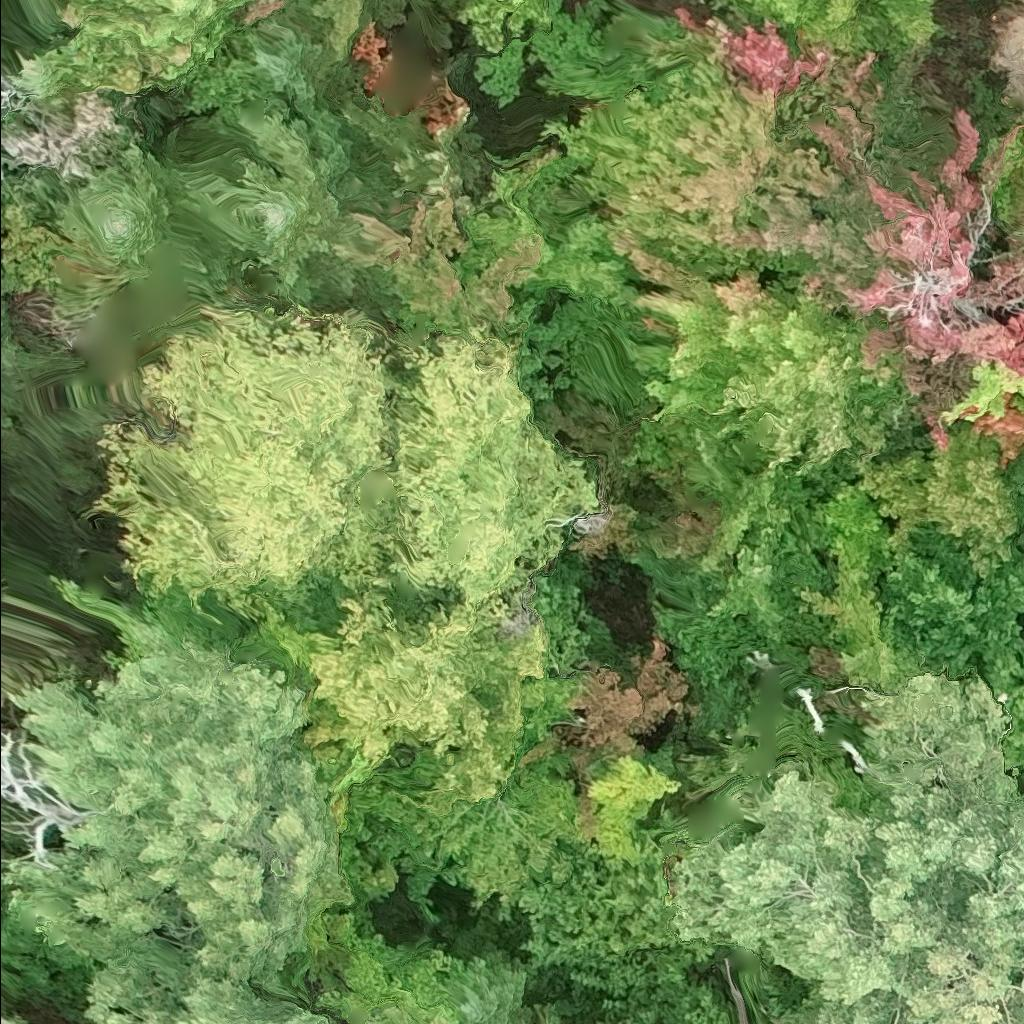crown: (670, 671, 1023, 1023), (833, 109, 1023, 450), (881, 522, 1023, 770), (861, 422, 1023, 578), (517, 845, 721, 968), (89, 954, 341, 1023), (566, 949, 732, 1023), (789, 973, 914, 1023), (975, 406, 1023, 468), (363, 1001, 409, 1023), (996, 994, 1023, 1023)
